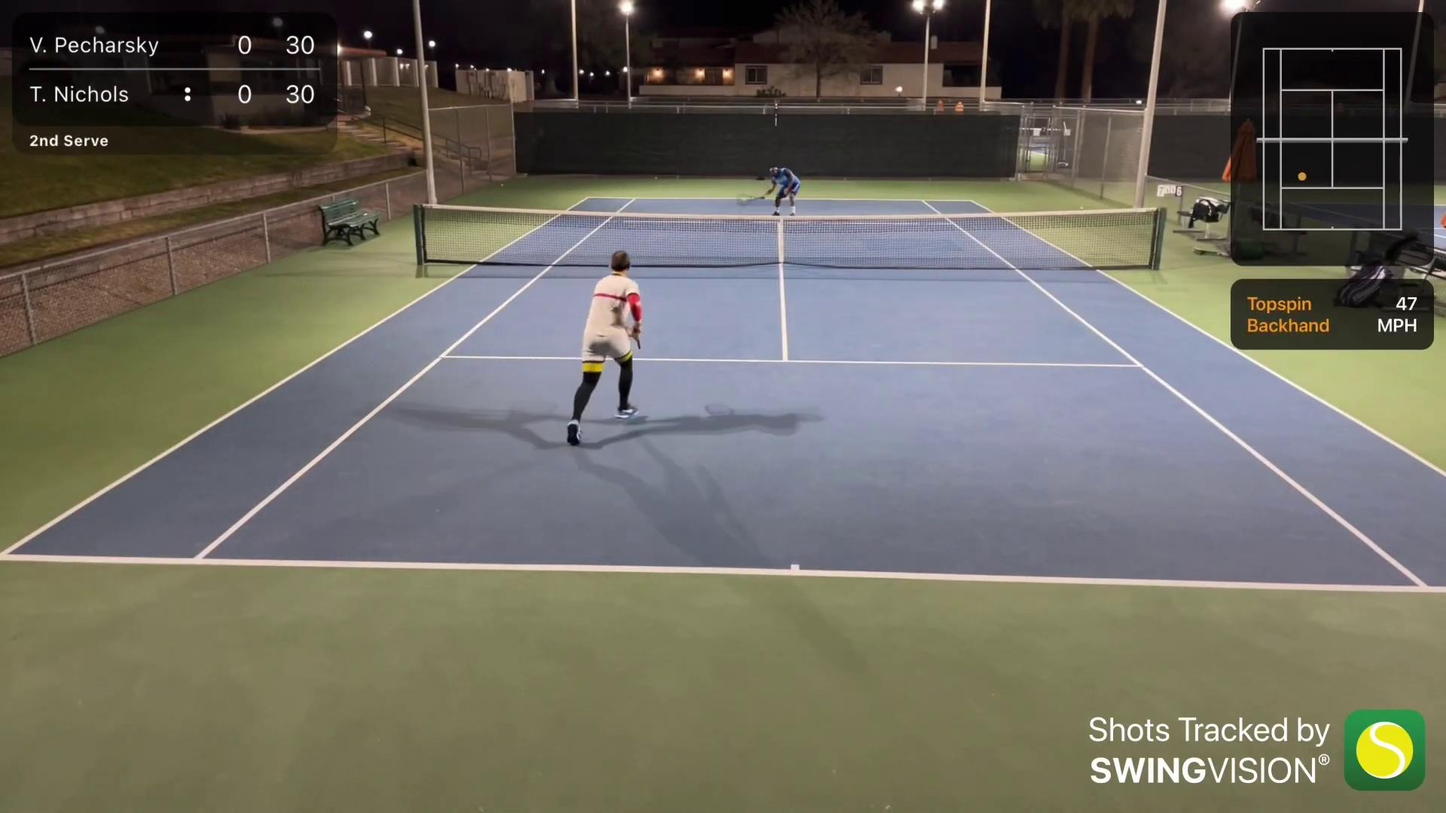ball: (741, 196, 748, 201), (654, 176, 659, 180), (500, 183, 504, 186)
